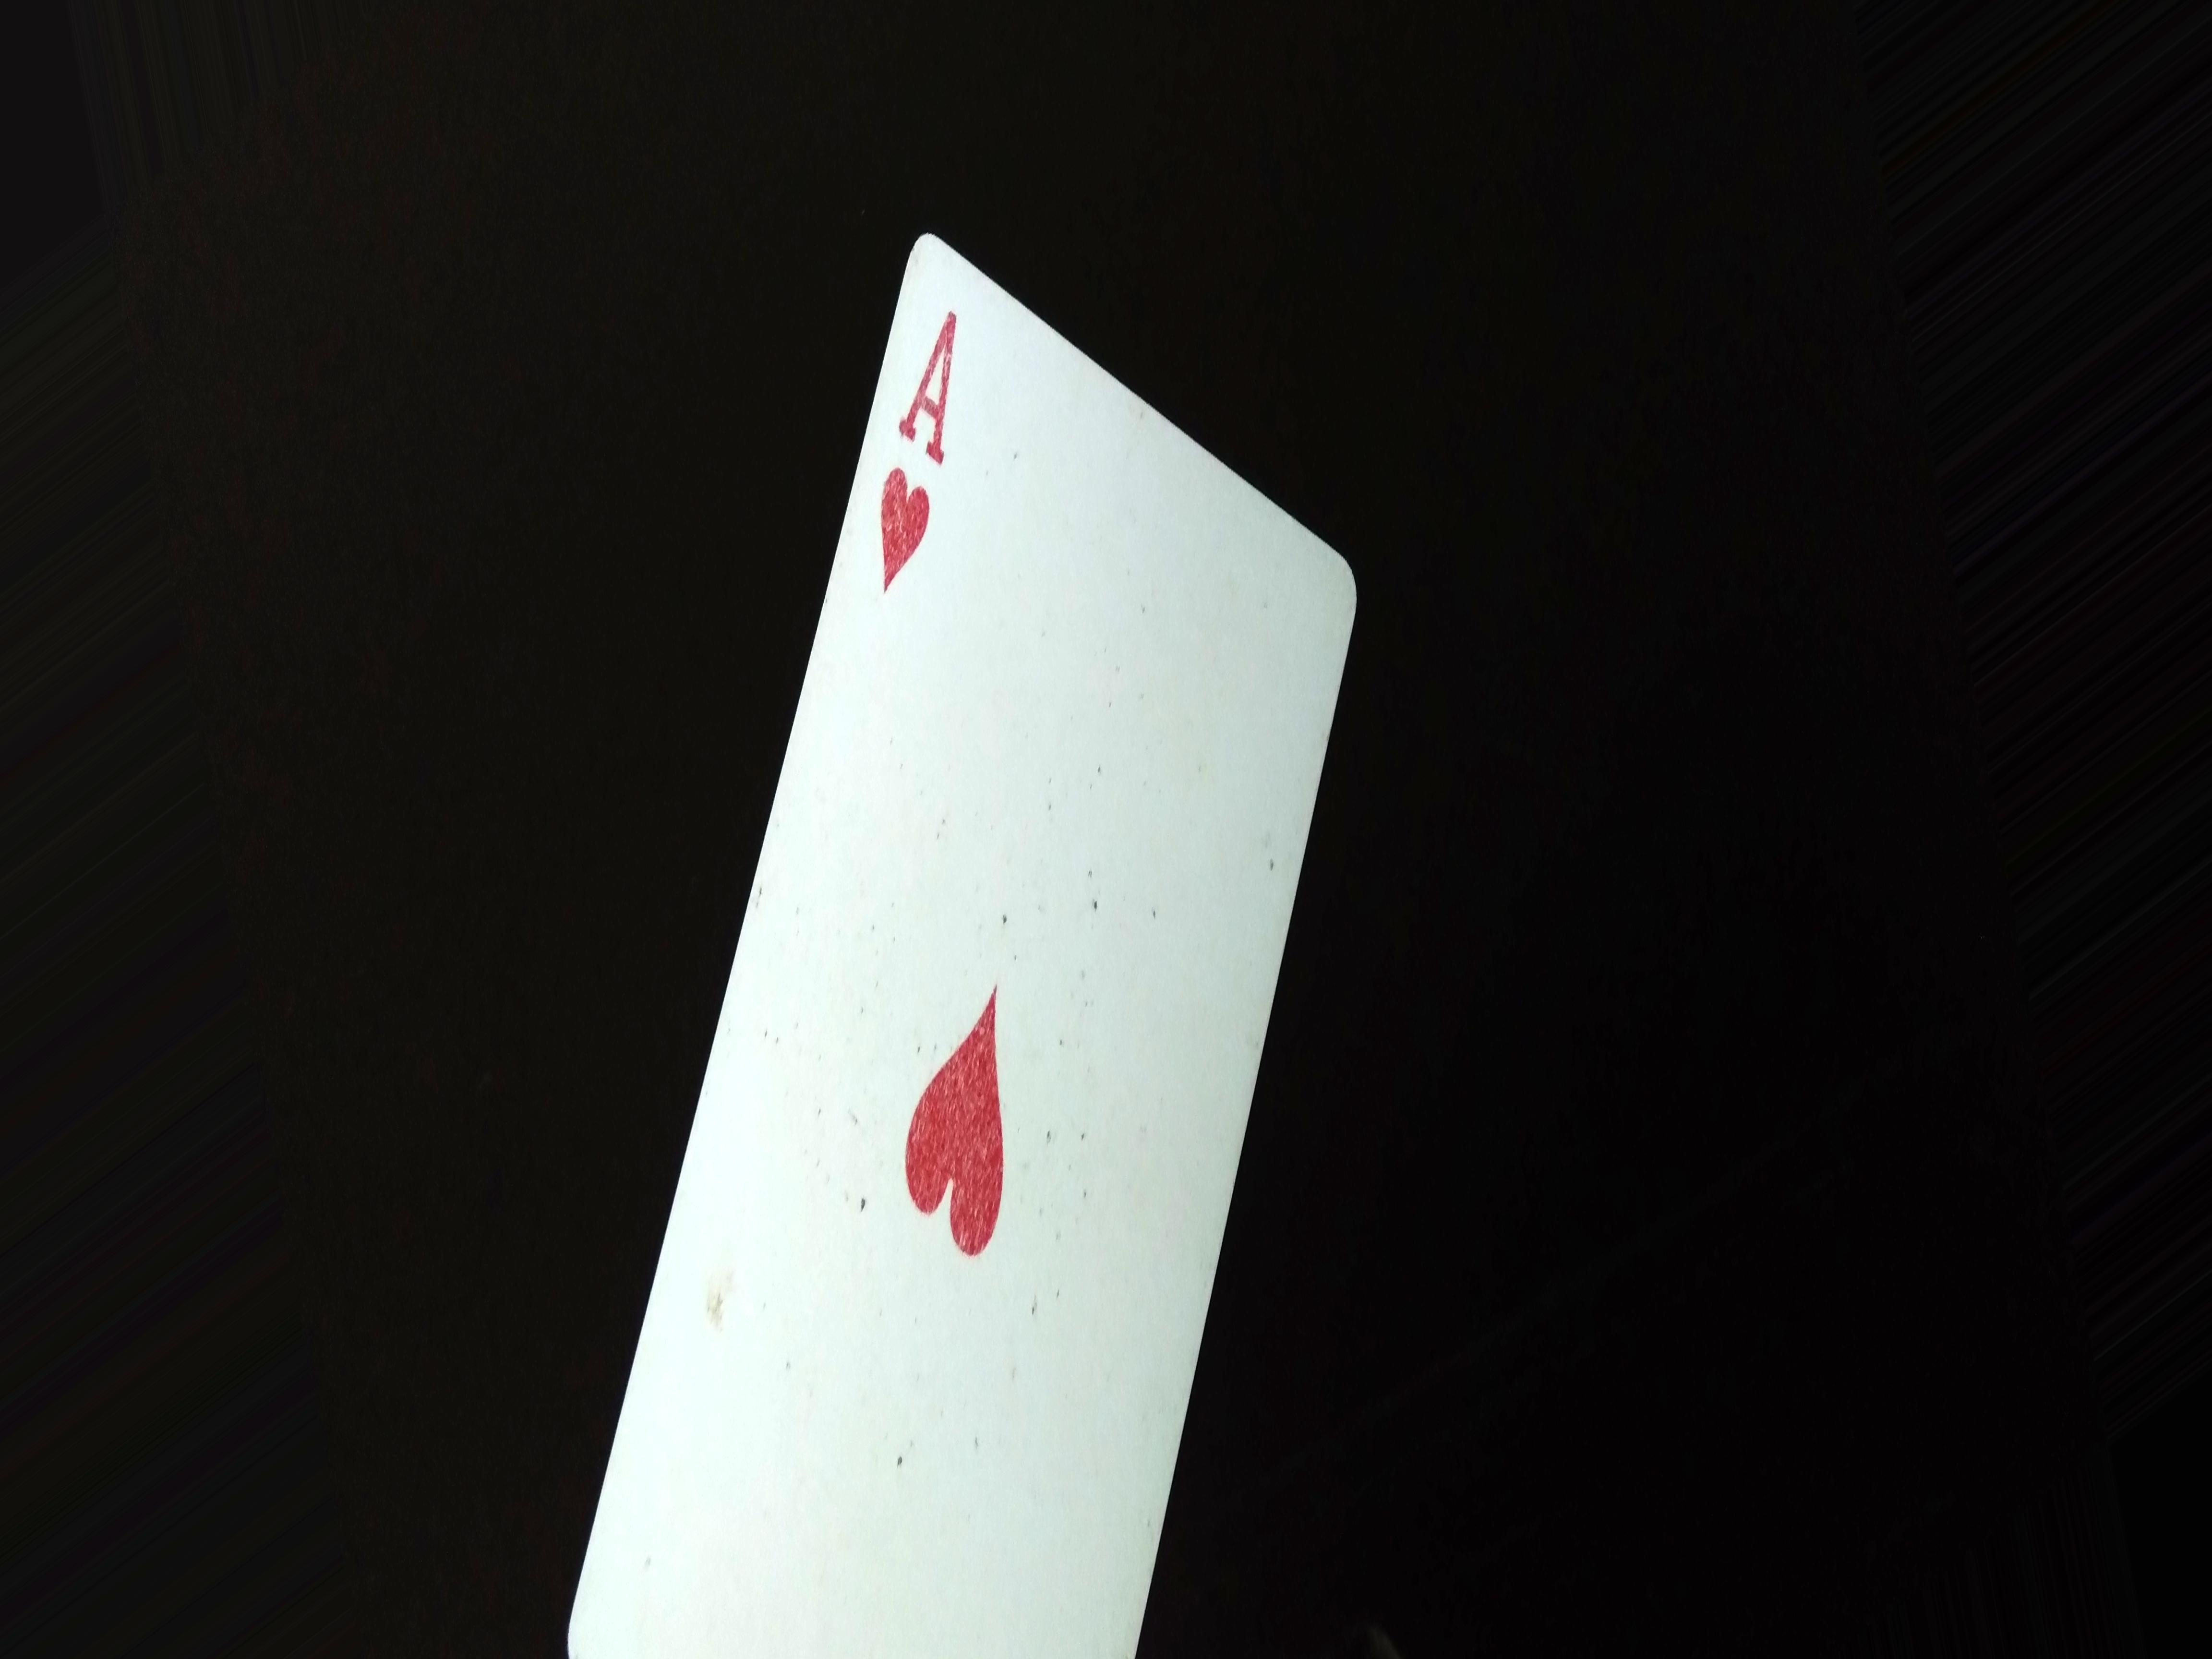AH: (869, 289, 977, 606)
